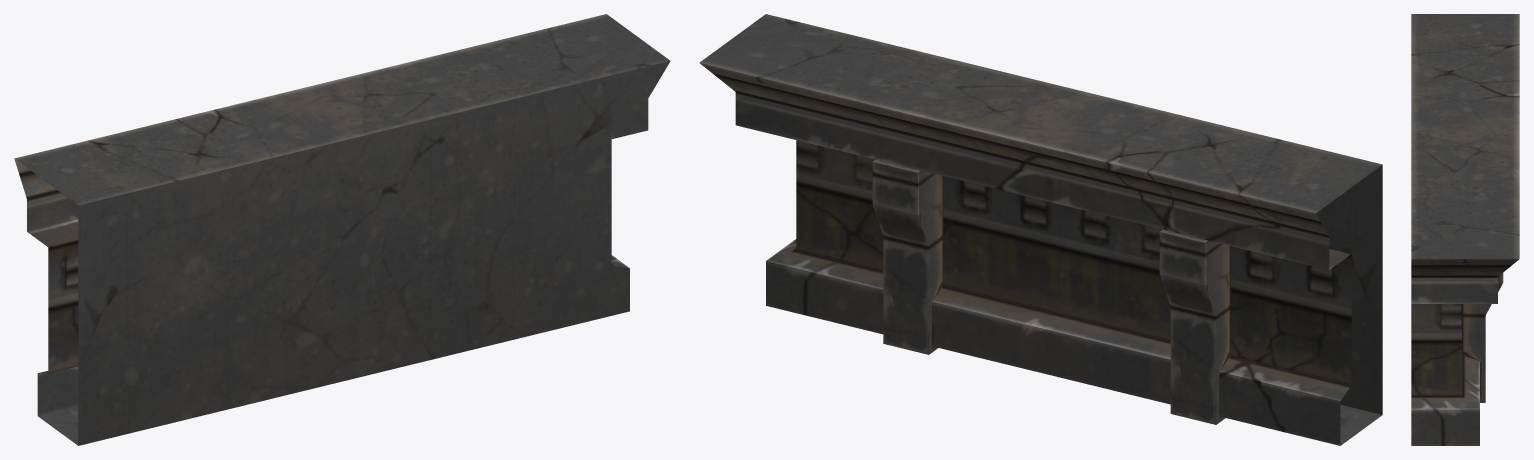
Rendered from ARC0110005.fbx.
3 views of the same model, side by side, from view 1: azimuth 30°, elevation 25°; view 2: azimuth 150°, elevation 25°; view 3: azimuth 270°, elevation 25° (orthographic). The views are drawn at different scales.
Visible parts, largest first — view 1: smARC0110005; view 2: smARC0110005; view 3: smARC0110005.
Part boxes in pixels (<box>): smARC0110005: <box>14,14,670,445</box>; smARC0110005: <box>699,14,1382,445</box>; smARC0110005: <box>1411,14,1519,445</box>.
Bounding box in the file's own units: 347 × 138 × 65.
Materials: 1 (1 with a texture image).
